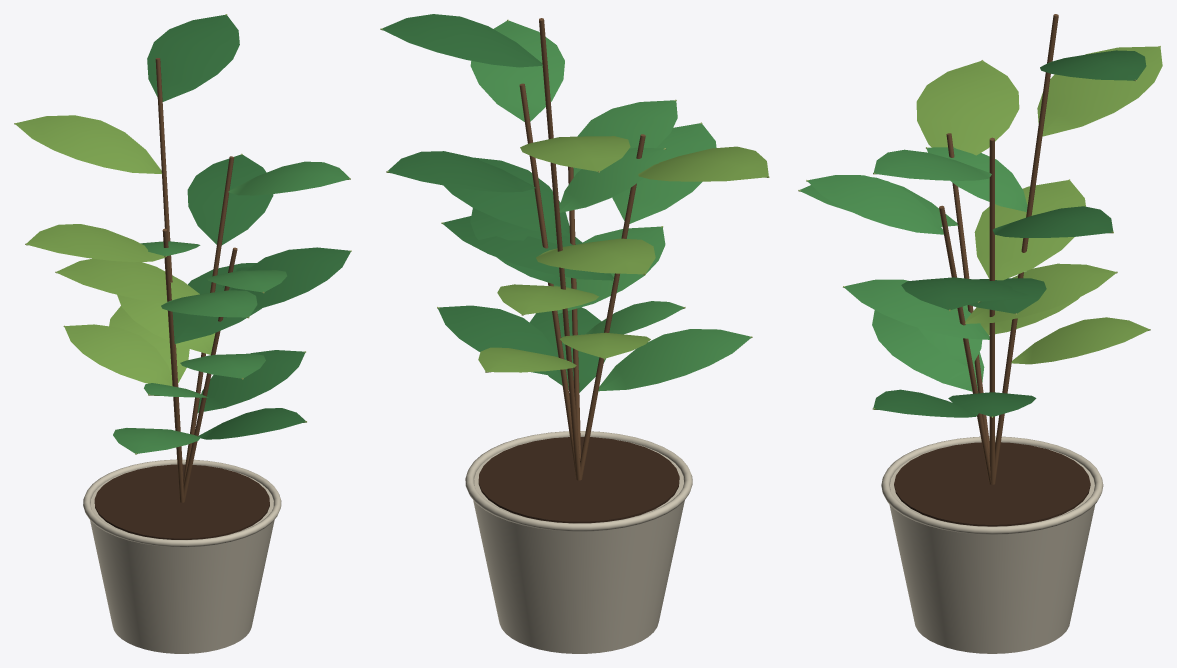
The model's file is library-top-plant.glb.
3 renders of one model, left to right at view 1: azimuth 30°, elevation 25°; view 2: azimuth 150°, elevation 25°; view 3: azimuth 270°, elevation 25°, orthographic. The views are drawn at different scales.
Parts seen in each view (by area): view 1: part::library-top-plant/thrown-ceramic-planter-001, part::library-top-plant/dark-potting-mix-001, part::library-top-plant/folded-broad-leaf-015, part::library-top-plant/folded-broad-leaf-014, part::library-top-plant/folded-broad-leaf-004, part::library-top-plant/folded-broad-leaf-007, part::library-top-plant/folded-broad-leaf-003, part::library-top-plant/folded-broad-leaf-019, part::library-top-plant/folded-broad-leaf-010, part::library-top-plant/planter-rounded-lip-001, part::library-top-plant/folded-broad-leaf-001, part::library-top-plant/folded-broad-leaf-005 (+14 smaller); view 2: part::library-top-plant/thrown-ceramic-planter-001, part::library-top-plant/dark-potting-mix-001, part::library-top-plant/folded-broad-leaf-006, part::library-top-plant/folded-broad-leaf-015, part::library-top-plant/folded-broad-leaf-005, part::library-top-plant/planter-rounded-lip-001, part::library-top-plant/folded-broad-leaf-001, part::library-top-plant/folded-broad-leaf-004, part::library-top-plant/folded-broad-leaf-019, part::library-top-plant/folded-broad-leaf-009, part::library-top-plant/folded-broad-leaf-010, part::library-top-plant/folded-broad-leaf-003 (+15 smaller); view 3: part::library-top-plant/thrown-ceramic-planter-001, part::library-top-plant/dark-potting-mix-001, part::library-top-plant/folded-broad-leaf-010, part::library-top-plant/folded-broad-leaf-014, part::library-top-plant/folded-broad-leaf-003, part::library-top-plant/folded-broad-leaf-020, part::library-top-plant/planter-rounded-lip-001, part::library-top-plant/folded-broad-leaf-002, part::library-top-plant/folded-broad-leaf-006, part::library-top-plant/folded-broad-leaf-011, part::library-top-plant/folded-broad-leaf-018, part::library-top-plant/folded-broad-leaf-004 (+14 smaller).
Part boxes in pixels (<box>): part::library-top-plant/thrown-ceramic-planter-001: <box>90,465,274,653</box>; part::library-top-plant/dark-potting-mix-001: <box>94,464,269,539</box>; part::library-top-plant/folded-broad-leaf-015: <box>147,14,239,101</box>; part::library-top-plant/folded-broad-leaf-014: <box>15,115,161,173</box>; part::library-top-plant/folded-broad-leaf-004: <box>187,154,273,245</box>; part::library-top-plant/folded-broad-leaf-007: <box>64,324,172,386</box>; part::library-top-plant/folded-broad-leaf-003: <box>56,258,199,303</box>; part::library-top-plant/folded-broad-leaf-019: <box>231,247,350,310</box>; part::library-top-plant/folded-broad-leaf-010: <box>26,224,165,262</box>; part::library-top-plant/planter-rounded-lip-001: <box>83,459,281,547</box>; part::library-top-plant/folded-broad-leaf-001: <box>197,350,305,412</box>; part::library-top-plant/folded-broad-leaf-005: <box>228,161,349,195</box>; part::library-top-plant/thrown-ceramic-planter-001: <box>473,437,684,653</box>; part::library-top-plant/dark-potting-mix-001: <box>478,437,679,523</box>; part::library-top-plant/folded-broad-leaf-006: <box>598,329,751,391</box>; part::library-top-plant/folded-broad-leaf-015: <box>381,14,542,67</box>; part::library-top-plant/folded-broad-leaf-005: <box>470,20,564,121</box>; part::library-top-plant/planter-rounded-lip-001: <box>465,431,692,531</box>; part::library-top-plant/folded-broad-leaf-001: <box>438,305,561,377</box>; part::library-top-plant/folded-broad-leaf-004: <box>387,151,535,192</box>; part::library-top-plant/folded-broad-leaf-019: <box>443,157,569,236</box>; part::library-top-plant/folded-broad-leaf-009: <box>612,123,716,223</box>; part::library-top-plant/folded-broad-leaf-010: <box>638,146,768,181</box>; part::library-top-plant/folded-broad-leaf-003: <box>536,238,655,274</box>; part::library-top-plant/thrown-ceramic-planter-001: <box>889,444,1095,653</box>; part::library-top-plant/dark-potting-mix-001: <box>894,442,1090,526</box>; part::library-top-plant/folded-broad-leaf-010: <box>916,61,1019,155</box>; part::library-top-plant/folded-broad-leaf-014: <box>1037,46,1162,136</box>; part::library-top-plant/folded-broad-leaf-003: <box>974,180,1085,280</box>; part::library-top-plant/folded-broad-leaf-020: <box>807,175,943,234</box>; part::library-top-plant/planter-rounded-lip-001: <box>881,436,1103,534</box>; part::library-top-plant/folded-broad-leaf-002: <box>844,279,989,339</box>; part::library-top-plant/folded-broad-leaf-006: <box>872,310,984,392</box>; part::library-top-plant/folded-broad-leaf-011: <box>1011,317,1149,364</box>; part::library-top-plant/folded-broad-leaf-018: <box>965,263,1116,323</box>; part::library-top-plant/folded-broad-leaf-004: <box>993,206,1113,237</box>.
Bounding box in the file's own units: 0.3467 × 0.5783 × 0.3138.
